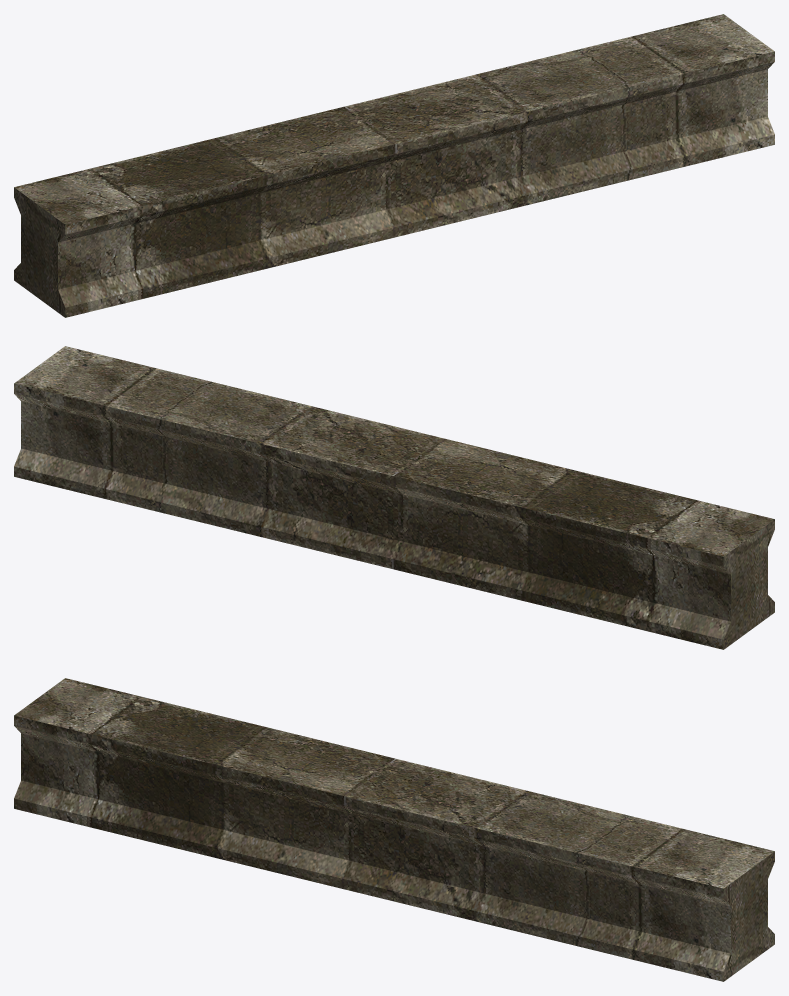
Rendered from church_beam02_worn.DAE.
3 views of the same model, one above another, from view 1: azimuth 30°, elevation 25°; view 2: azimuth 150°, elevation 25°; view 3: azimuth 330°, elevation 25° (orthographic).
Parts seen in each view (by area): view 1: Object136; view 2: Object136; view 3: Object136.
Part boxes in pixels (<box>): Object136: <box>14,14,774,317</box>; Object136: <box>14,346,774,649</box>; Object136: <box>14,678,774,981</box>.
Size of the model in its own units: 4 by 0.502 by 0.5004.
